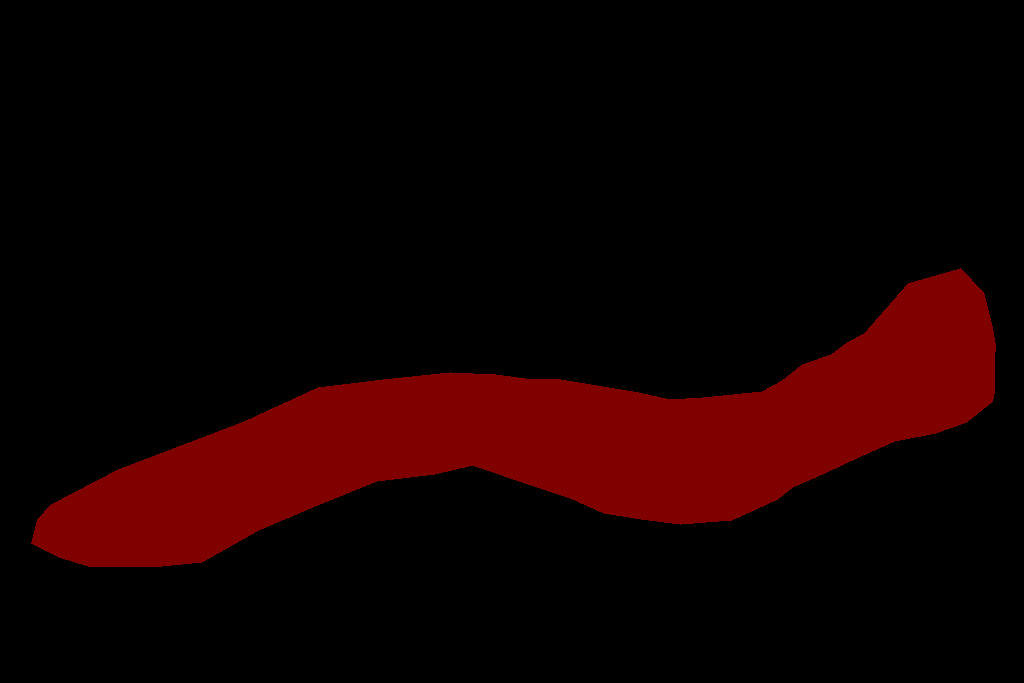fire: (31, 268, 995, 566)
